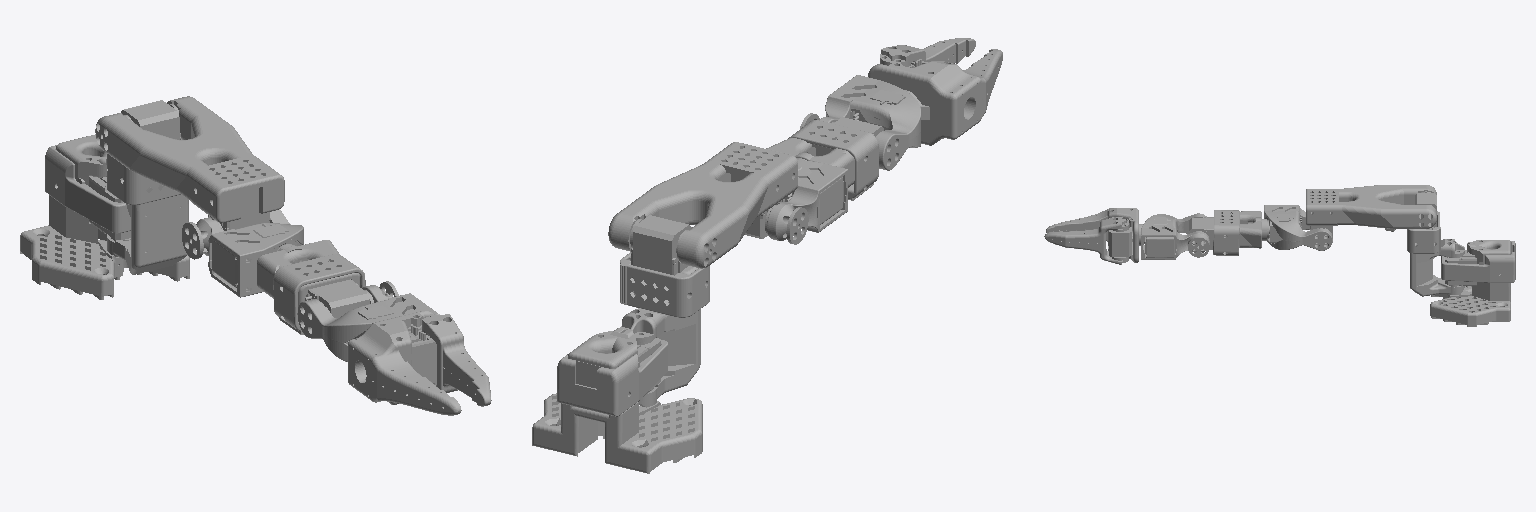
robot.urdf — SO107_urdf:
<?xml version="1.0" ?>
<robot name="SO107_urdf">

<material name="silver">
  <color rgba="0.700 0.700 0.700 1.000"/>
</material>

<link name="BASE_1">
  <inertial>
    <origin xyz="-1.1000864930715867e-06 0.019881184608602016 0.030651327322251322" rpy="0 0 0"/>
    <mass value="1.4138178700759005"/>
    <inertia ixx="0.001346" iyy="0.001326" izz="0.001378" ixy="0.0" iyz="-0.000126" ixz="0.0"/>
  </inertial>
  <visual>
    <origin xyz="0 0 0" rpy="0 0 0"/>
    <geometry>
      <mesh filename="package://meshes/BASE_1.stl" scale="0.001 0.001 0.001"/>
    </geometry>
    <material name="silver"/>
  </visual>
  <collision>
    <origin xyz="0 0 0" rpy="0 0 0"/>
    <geometry>
      <mesh filename="package://meshes/BASE_1.stl" scale="0.001 0.001 0.001"/>
    </geometry>
  </collision>
</link>

<link name="L1_1">
  <inertial>
    <origin xyz="-0.00016120373189057726 -0.031203643458480076 0.011056990096431046" rpy="0 0 0"/>
    <mass value="0.9302287393788501"/>
    <inertia ixx="0.000928" iyy="0.000925" izz="0.000252" ixy="0.0" iyz="2.6e-05" ixz="1e-06"/>
  </inertial>
  <visual>
    <origin xyz="-1.0269904119381793e-05 0.006491919613632658 -0.06469999999999797" rpy="0 0 0"/>
    <geometry>
      <mesh filename="package://meshes/L1_1.stl" scale="0.001 0.001 0.001"/>
    </geometry>
    <material name="silver"/>
  </visual>
  <collision>
    <origin xyz="-1.0269904119381793e-05 0.006491919613632658 -0.06469999999999797" rpy="0 0 0"/>
    <geometry>
      <mesh filename="package://meshes/L1_1.stl" scale="0.001 0.001 0.001"/>
    </geometry>
  </collision>
</link>

<link name="L2_1">
  <inertial>
    <origin xyz="-0.018035774777733427 -0.07019130275920135 -0.0031072786683158937" rpy="0 0 0"/>
    <mass value="1.2731856908289911"/>
    <inertia ixx="0.002027" iyy="0.000604" izz="0.002336" ixy="1e-06" iyz="-0.000172" ixz="3e-06"/>
  </inertial>
  <visual>
    <origin xyz="-0.017943099150266685 0.036977762018863505 -0.11880177932977297" rpy="0 0 0"/>
    <geometry>
      <mesh filename="package://meshes/L2_1.stl" scale="0.001 0.001 0.001"/>
    </geometry>
    <material name="silver"/>
  </visual>
  <collision>
    <origin xyz="-0.017943099150266685 0.036977762018863505 -0.11880177932977297" rpy="0 0 0"/>
    <geometry>
      <mesh filename="package://meshes/L2_1.stl" scale="0.001 0.001 0.001"/>
    </geometry>
  </collision>
</link>

<link name="L3_1">
  <inertial>
    <origin xyz="-0.026440112388001258 -0.03445123321574714 0.00032570809248233523" rpy="0 0 0"/>
    <mass value="0.5075940741079121"/>
    <inertia ixx="0.00018" iyy="0.000195" izz="0.000309" ixy="-2.4e-05" iyz="2e-06" ixz="1e-06"/>
  </inertial>
  <visual>
    <origin xyz="-0.018380904386528934 0.14988554549089061 -0.09080177932977146" rpy="0 0 0"/>
    <geometry>
      <mesh filename="package://meshes/L3_1.stl" scale="0.001 0.001 0.001"/>
    </geometry>
    <material name="silver"/>
  </visual>
  <collision>
    <origin xyz="-0.018380904386528934 0.14988554549089061 -0.09080177932977146" rpy="0 0 0"/>
    <geometry>
      <mesh filename="package://meshes/L3_1.stl" scale="0.001 0.001 0.001"/>
    </geometry>
  </collision>
</link>

<link name="L4_1">
  <inertial>
    <origin xyz="0.0002996710669403727 -0.04219851350426518 -0.00271190771097167" rpy="0 0 0"/>
    <mass value="0.6716678130372074"/>
    <inertia ixx="0.000358" iyy="0.00019" izz="0.000444" ixy="-7e-06" iyz="-2.7e-05" ixz="-1e-06"/>
  </inertial>
  <visual>
    <origin xyz="-0.00038090442527525777 0.20975277414514332 -0.09193455067552131" rpy="0 0 0"/>
    <geometry>
      <mesh filename="package://meshes/L4_1.stl" scale="0.001 0.001 0.001"/>
    </geometry>
    <material name="silver"/>
  </visual>
  <collision>
    <origin xyz="-0.00038090442527525777 0.20975277414514332 -0.09193455067552131" rpy="0 0 0"/>
    <geometry>
      <mesh filename="package://meshes/L4_1.stl" scale="0.001 0.001 0.001"/>
    </geometry>
  </collision>
</link>

<link name="L5_1">
  <inertial>
    <origin xyz="0.026440104534337996 -0.03445128614067067 -0.00032095357298489446" rpy="0 0 0"/>
    <mass value="0.5075938722215222"/>
    <inertia ixx="0.00018" iyy="0.000195" izz="0.000309" ixy="2.4e-05" iyz="-2e-06" ixz="1e-06"/>
  </inertial>
  <visual>
    <origin xyz="0.017824547028909253 0.28286757457671496 -0.08694842157267686" rpy="0 0 0"/>
    <geometry>
      <mesh filename="package://meshes/L5_1.stl" scale="0.001 0.001 0.001"/>
    </geometry>
    <material name="silver"/>
  </visual>
  <collision>
    <origin xyz="0.017824547028909253 0.28286757457671496 -0.08694842157267686" rpy="0 0 0"/>
    <geometry>
      <mesh filename="package://meshes/L5_1.stl" scale="0.001 0.001 0.001"/>
    </geometry>
  </collision>
</link>

<link name="L6_1">
  <inertial>
    <origin xyz="-0.004954058875949912 -0.027803012749780254 0.0002046527997015407" rpy="0 0 0"/>
    <mass value="0.6955792923870261"/>
    <inertia ixx="0.000338" iyy="0.000309" izz="0.000466" ixy="-7.3e-05" iyz="-0.0" ixz="-4e-06"/>
  </inertial>
  <visual>
    <origin xyz="-0.00017545301288863222 0.3427349572721379 -0.08582382210508811" rpy="0 0 0"/>
    <geometry>
      <mesh filename="package://meshes/L6_1.stl" scale="0.001 0.001 0.001"/>
    </geometry>
    <material name="silver"/>
  </visual>
  <collision>
    <origin xyz="-0.00017545301288863222 0.3427349572721379 -0.08582382210508811" rpy="0 0 0"/>
    <geometry>
      <mesh filename="package://meshes/L6_1.stl" scale="0.001 0.001 0.001"/>
    </geometry>
  </collision>
</link>

<link name="L7_1">
  <inertial>
    <origin xyz="-0.0016198436295189536 -0.030393188436600826 0.019288497752840195" rpy="0 0 0"/>
    <mass value="0.1586832108582172"/>
    <inertia ixx="8.7e-05" iyy="2.4e-05" izz="7e-05" ixy="-4e-06" iyz="-2e-06" ixz="-0.0"/>
  </inertial>
  <visual>
    <origin xyz="-0.020375453052695593 0.36777475192005477 -0.06901473991052347" rpy="0 0 0"/>
    <geometry>
      <mesh filename="package://meshes/L7_1.stl" scale="0.001 0.001 0.001"/>
    </geometry>
    <material name="silver"/>
  </visual>
  <collision>
    <origin xyz="-0.020375453052695593 0.36777475192005477 -0.06901473991052347" rpy="0 0 0"/>
    <geometry>
      <mesh filename="package://meshes/L7_1.stl" scale="0.001 0.001 0.001"/>
    </geometry>
  </collision>
</link>

<joint name="S1" type="revolute">
  <origin xyz="1.0269904119381793e-05 -0.006491919613632658 0.06469999999999797" rpy="0 0 0"/>
  <parent link="BASE_1"/>
  <child link="L1_1"/>
  <axis xyz="0.0 0.0 1.0"/>
  <limit upper="3.14159" lower="-3.14159" effort="100" velocity="100"/>
</joint>

<joint name="S2" type="revolute">
  <origin xyz="0.017932829246147305 -0.030485842405230848 0.054101779329775" rpy="0 0 0"/>
  <parent link="L1_1"/>
  <child link="L2_1"/>
  <axis xyz="1.0 3.899658373995775e-15 9.973680369662098e-15"/>
  <limit upper="3.14159" lower="-3.14159" effort="100" velocity="100"/>
</joint>

<joint name="S3" type="revolute">
  <origin xyz="0.0004378052362622488 -0.11290778347202711 -0.02800000000000151" rpy="0 0 0"/>
  <parent link="L2_1"/>
  <child link="L3_1"/>
  <axis xyz="1.0 4.315992008230064e-15 1.3031262354691917e-14"/>
  <limit upper="3.14159" lower="-3.14159" effort="100" velocity="100"/>
</joint>

<joint name="S4" type="revolute">
  <origin xyz="-0.017999999961253677 -0.0598672286542527 0.00113277134574985" rpy="0 0 0"/>
  <parent link="L3_1"/>
  <child link="L4_1"/>
  <axis xyz="6.661013685071851e-10 -1.0 -8.495972595381182e-16"/>
  <limit upper="3.14159" lower="-3.14159" effort="100" velocity="100"/>
</joint>

<joint name="S5" type="revolute">
  <origin xyz="-0.01820545145418451 -0.07311480043157165 -0.004986129102844447" rpy="0 0 0"/>
  <parent link="L4_1"/>
  <child link="L5_1"/>
  <axis xyz="-1.0 -1.333394269997649e-09 -6.661193142758406e-10"/>
  <limit upper="3.14159" lower="-3.14159" effort="100" velocity="100"/>
</joint>

<joint name="S6" type="revolute">
  <origin xyz="0.018000000041797887 -0.05986738269542291 -0.0011245994675887494" rpy="0 0 0"/>
  <parent link="L5_1"/>
  <child link="L6_1"/>
  <axis xyz="6.666111507521254e-10 -0.9999999906839232 0.0001364996476153662"/>
  <limit upper="3.14159" lower="-3.14159" effort="100" velocity="100"/>
</joint>

<joint name="S7" type="revolute">
  <origin xyz="0.02020000003980696 -0.02503979464791689 -0.016809082194564645" rpy="0 0 0"/>
  <parent link="L6_1"/>
  <child link="L7_1"/>
  <axis xyz="1.6654672358491272e-09 -0.00013649965749629398 -0.9999999906839215"/>
  <limit upper="3.14159" lower="-3.14159" effort="100" velocity="100"/>
</joint>

</robot>

--- Facts derived from the render (not from the file) ---
The picture shows the robot from 3 angles, left to right: view 1: azimuth 30°, elevation 25°; view 2: azimuth 150°, elevation 25°; view 3: azimuth 270°, elevation 25°; orthographic projection.
Robot: SO107_urdf — 8 links, 7 joints (7 revolute); root link BASE_1; default pose: all joints at 0.
Visible links, largest first — view 1: L2_1, BASE_1, L1_1, L6_1, L4_1, L3_1, L5_1, L7_1; view 2: BASE_1, L2_1, L1_1, L6_1, L5_1, L4_1, L3_1, L7_1; view 3: BASE_1, L2_1, L1_1, L4_1, L5_1, L3_1, L6_1, L7_1.
Link boxes in pixels (<box>): L2_1: <box>95,96,284,230</box>; BASE_1: <box>20,134,189,299</box>; L1_1: <box>106,100,188,274</box>; L6_1: <box>348,311,461,415</box>; L4_1: <box>257,240,373,334</box>; L3_1: <box>182,209,303,297</box>; L5_1: <box>297,281,439,361</box>; L7_1: <box>422,314,491,406</box>; BASE_1: <box>532,328,702,473</box>; L2_1: <box>608,142,797,268</box>; L1_1: <box>620,215,709,407</box>; L6_1: <box>868,49,1002,145</box>; L5_1: <box>800,75,920,170</box>; L4_1: <box>766,117,883,200</box>; L3_1: <box>767,160,847,244</box>; L7_1: <box>880,38,975,65</box>; BASE_1: <box>1430,240,1515,326</box>; L2_1: <box>1306,185,1436,235</box>; L1_1: <box>1407,191,1464,296</box>; L4_1: <box>1189,210,1266,255</box>; L5_1: <box>1141,213,1209,259</box>; L3_1: <box>1264,205,1332,250</box>; L6_1: <box>1046,208,1142,262</box>; L7_1: <box>1044,217,1129,264</box>.
Size in the robot's own frame: 0.1109 by 0.5096 by 0.1297 metres.
Meshes: 8 distinct files referenced, 8 mesh visuals loaded (8 binary STL).